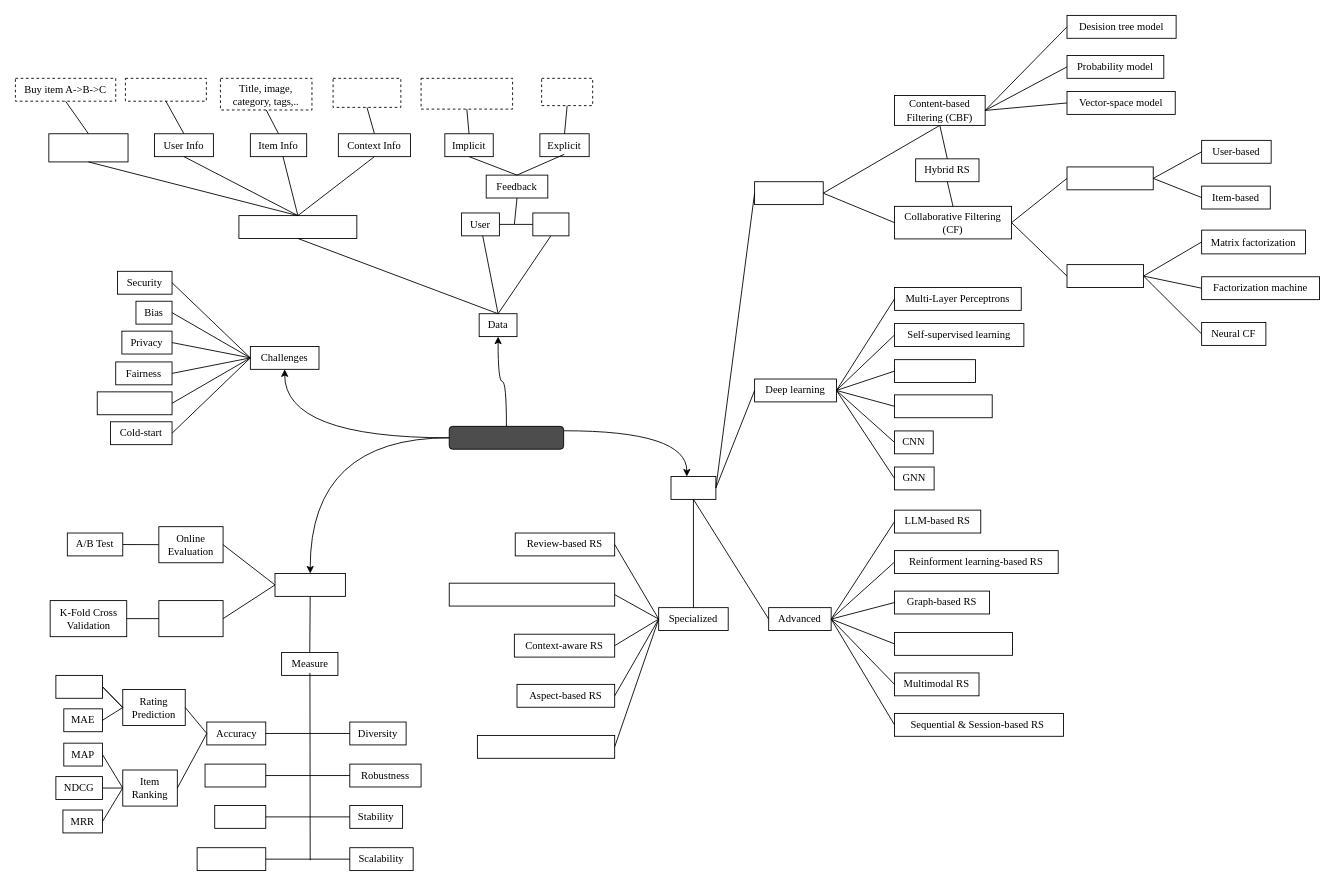
Some shapes in this 1335 by 886 pixel diagram are drawn without their labels. Here are the shapes that lost their labels. From the top down, the centre of each, then its label:
(165,89): Age, gender,..
(366,92): Time, location,..
(466,93): Click, watch, buy, bookmark,..
(567,91): Rating (1~5)
(88,147): Sequence/Session Info
(788,193): Foundation
(1109,178): Memory-based
(297,226): Additional Information
(550,224): Item
(1105,275): Model-based
(934,371): Autoencoders
(134,403): Filter Bubble
(943,406): RNN / Sequential
(506,437): Recomender System
(693,487): Model
(309,584): Evaluation
(531,594): Explainable and Trustworthy RS
(190,618): Offine Evaluation
(953,643): Knowledge-based RS
(79,686): RMSE
(546,746): FATE / Fairness-aware Rs
(235,775): Coverage
(240,816): Novelty
(231,859): Serendipity
